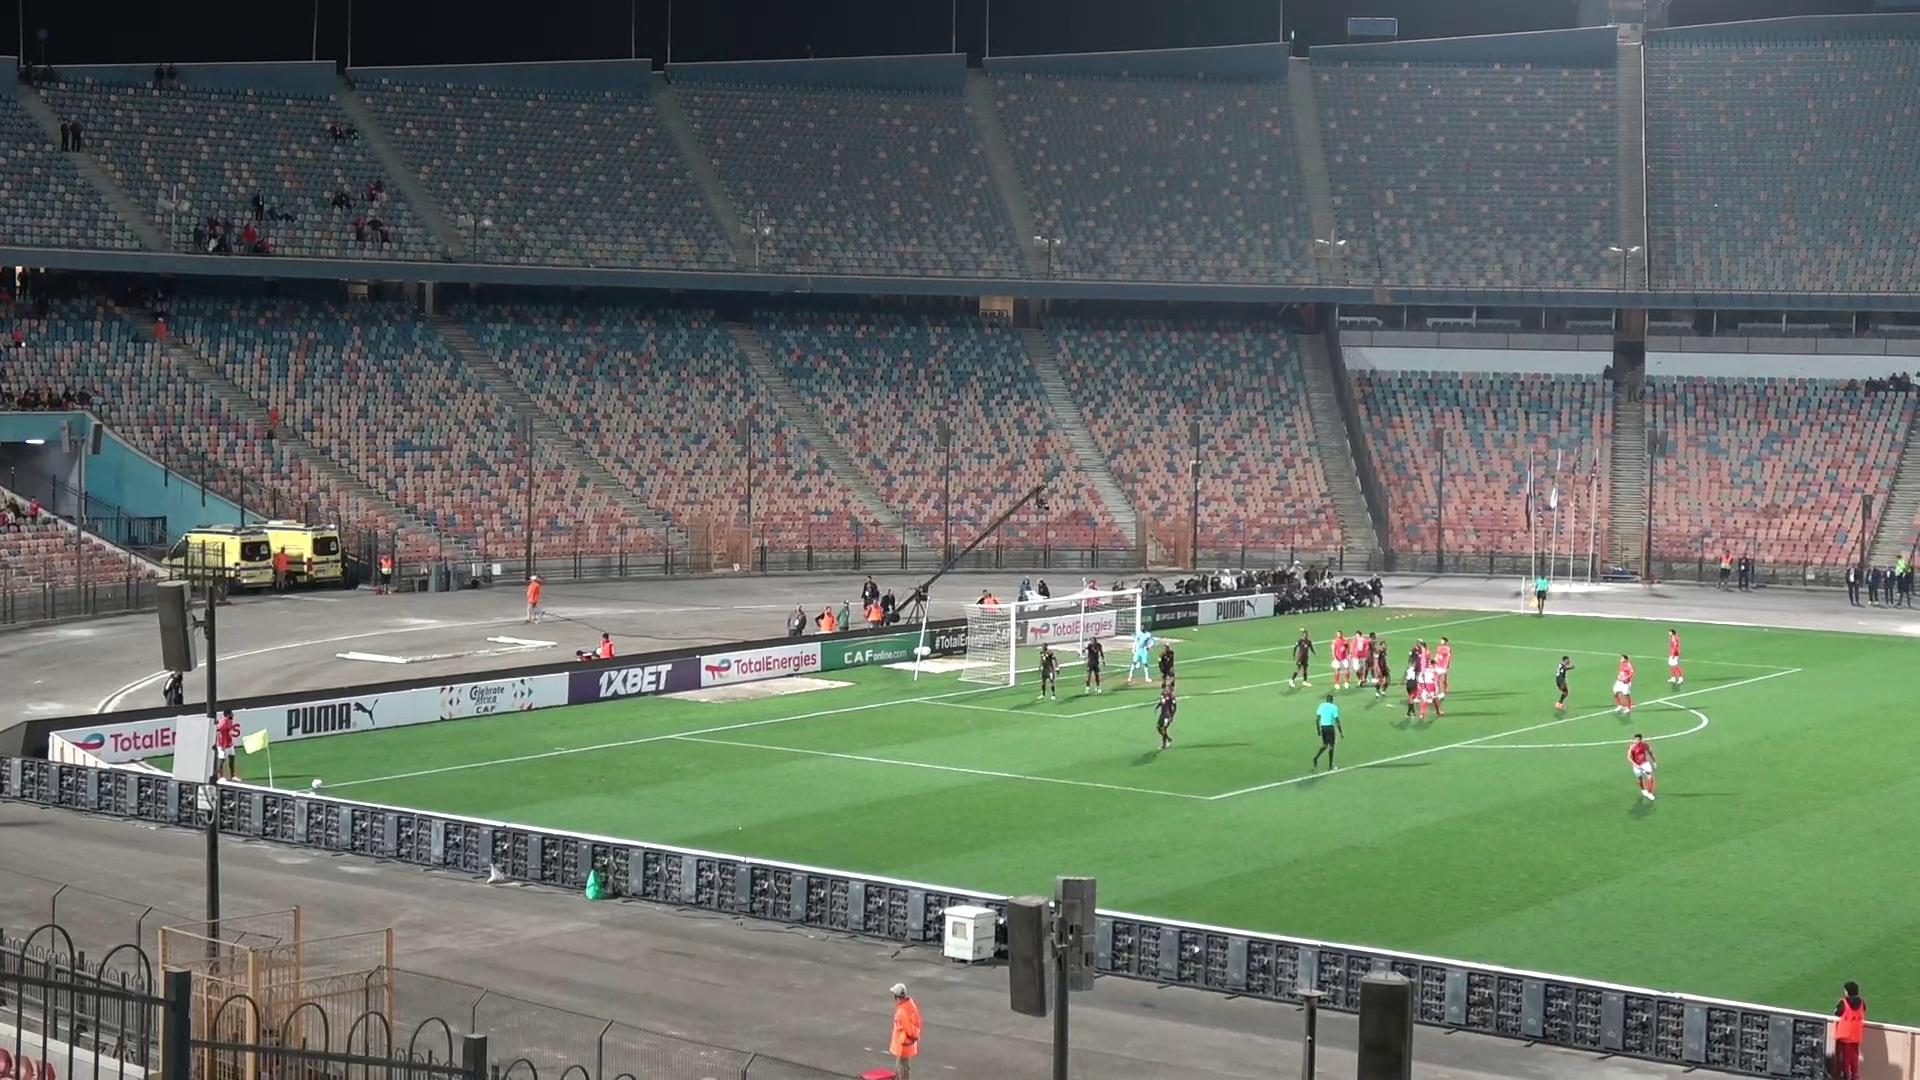Ball: (309, 777, 327, 794)
GK2: (1127, 624, 1153, 684)
Refree: (1311, 694, 1342, 769), (1530, 558, 1552, 616)
Team1: (210, 709, 244, 782), (1626, 733, 1656, 803), (1418, 655, 1443, 719), (1611, 654, 1635, 713), (1331, 630, 1352, 688), (1665, 629, 1685, 690), (1435, 636, 1452, 699), (1350, 632, 1369, 686)
Team2: (1155, 680, 1178, 749), (1288, 629, 1316, 684), (1080, 640, 1105, 694), (1036, 644, 1060, 699), (1156, 641, 1178, 700), (1371, 634, 1390, 698), (1553, 655, 1575, 709), (1403, 653, 1420, 719), (1364, 632, 1382, 688)
